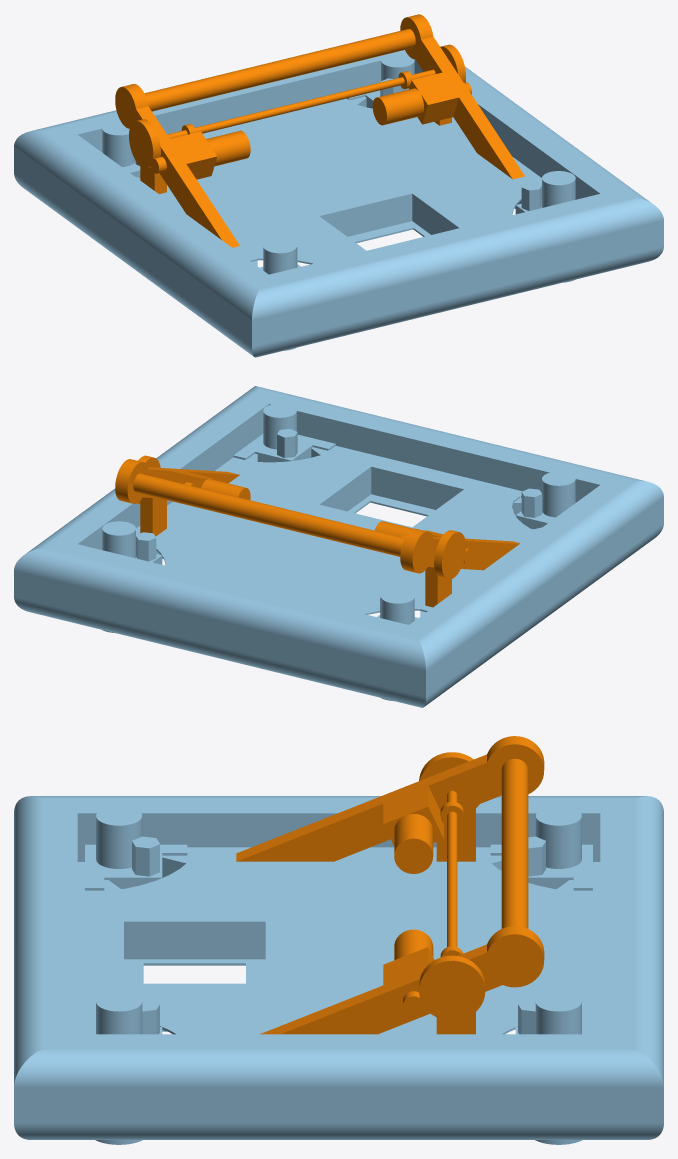
3 views of the same model, one above another, from view 1: azimuth 30°, elevation 25°; view 2: azimuth 150°, elevation 25°; view 3: azimuth 270°, elevation 25° (orthographic). The views are drawn at different scales.
Parts seen in each view (by area): view 1: BC DRIVETRAIN, BC PIVOT; view 2: BC DRIVETRAIN, BC PIVOT; view 3: BC DRIVETRAIN, BC PIVOT.
Boxes of the visible parts, x1,y1,x2,y2 form: BC DRIVETRAIN: (14, 50, 663, 357); BC PIVOT: (115, 14, 524, 247); BC DRIVETRAIN: (14, 386, 663, 707); BC PIVOT: (115, 455, 519, 607); BC DRIVETRAIN: (14, 796, 663, 1144); BC PIVOT: (236, 736, 544, 1034).
Size of the model in its own units: 0.8446 by 0.2921 by 0.8446.
